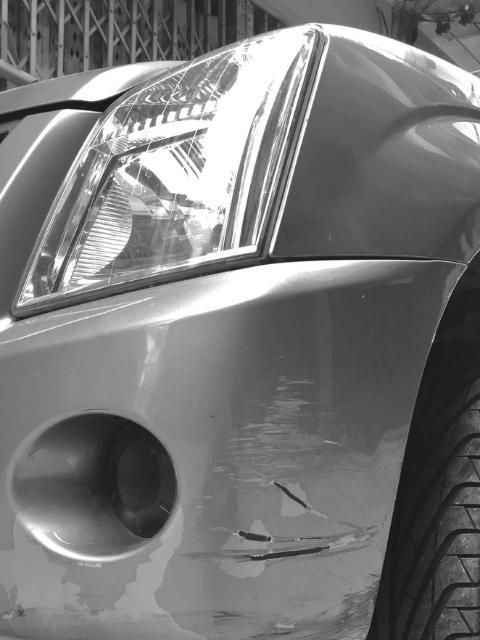Bumper: (5, 290, 433, 640)
